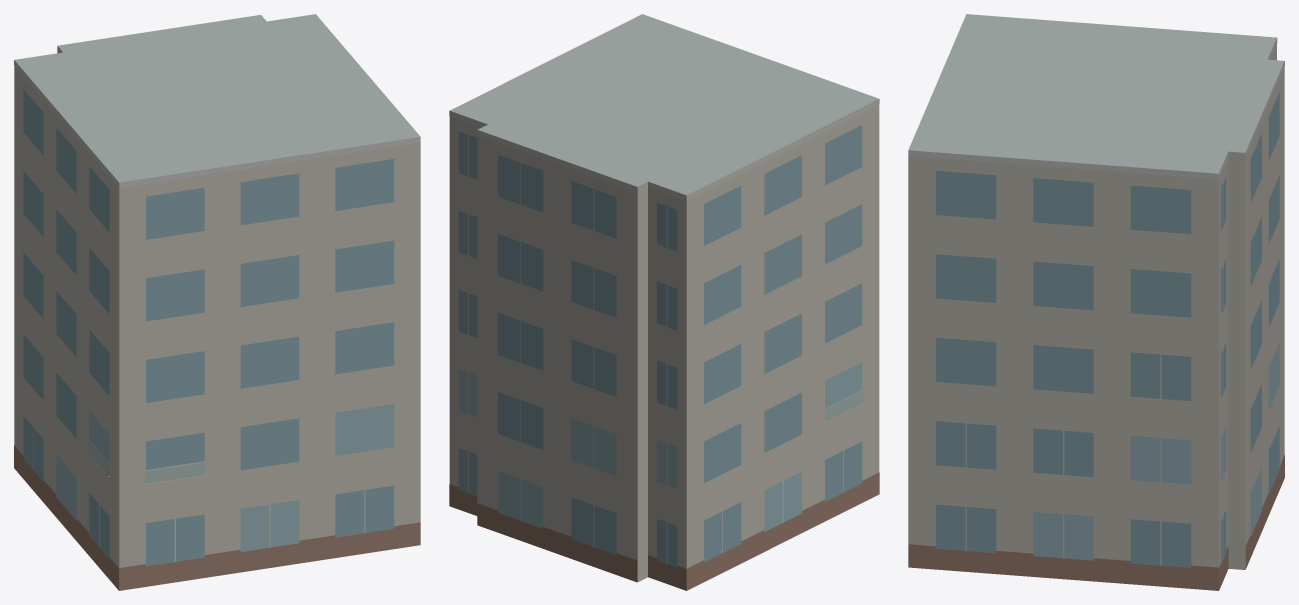
File: survey-upis-33017765.glb
The picture shows the model from 3 angles, left to right: view 1: azimuth 30°, elevation 25°; view 2: azimuth 150°, elevation 25°; view 3: azimuth 270°, elevation 25°; orthographic projection. The views are drawn at different scales.
Visible parts, largest first — view 1: survey-upis-33017765.tmp; view 2: survey-upis-33017765.tmp; view 3: survey-upis-33017765.tmp.
Part boxes in pixels (x1=…): survey-upis-33017765.tmp: x1=14, y1=14, x2=420, y2=590; survey-upis-33017765.tmp: x1=449, y1=14, x2=879, y2=590; survey-upis-33017765.tmp: x1=908, y1=14, x2=1284, y2=590.
Size of the model in its own units: 14.21 by 17.3 by 14.16.
